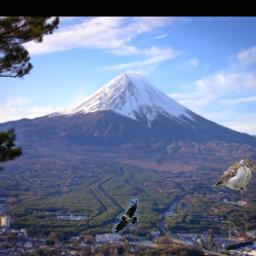Crow: (112, 200, 139, 234)
Sparrow: (211, 158, 256, 195)
